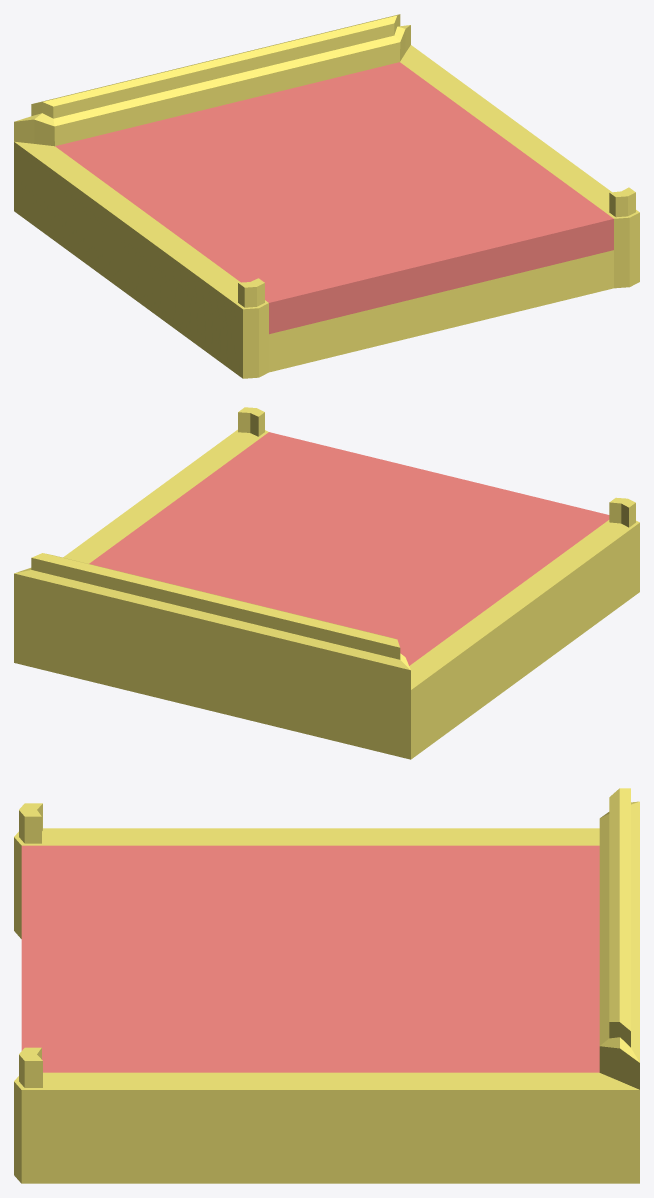
File: Plataforma_do_tabuleiro.fbx
3 views of the same model, one above another, from view 1: azimuth 30°, elevation 25°; view 2: azimuth 150°, elevation 25°; view 3: azimuth 270°, elevation 25° (orthographic). The views are drawn at different scales.
Parts seen in each view (by area): view 1: Cube; view 2: Cube; view 3: Cube.
Part boxes in pixels (<box>): Cube: <box>14,14,639,378</box>; Cube: <box>14,407,639,759</box>; Cube: <box>14,788,639,1183</box>.
Size of the model in its own units: 4000 by 1055 by 4046.
